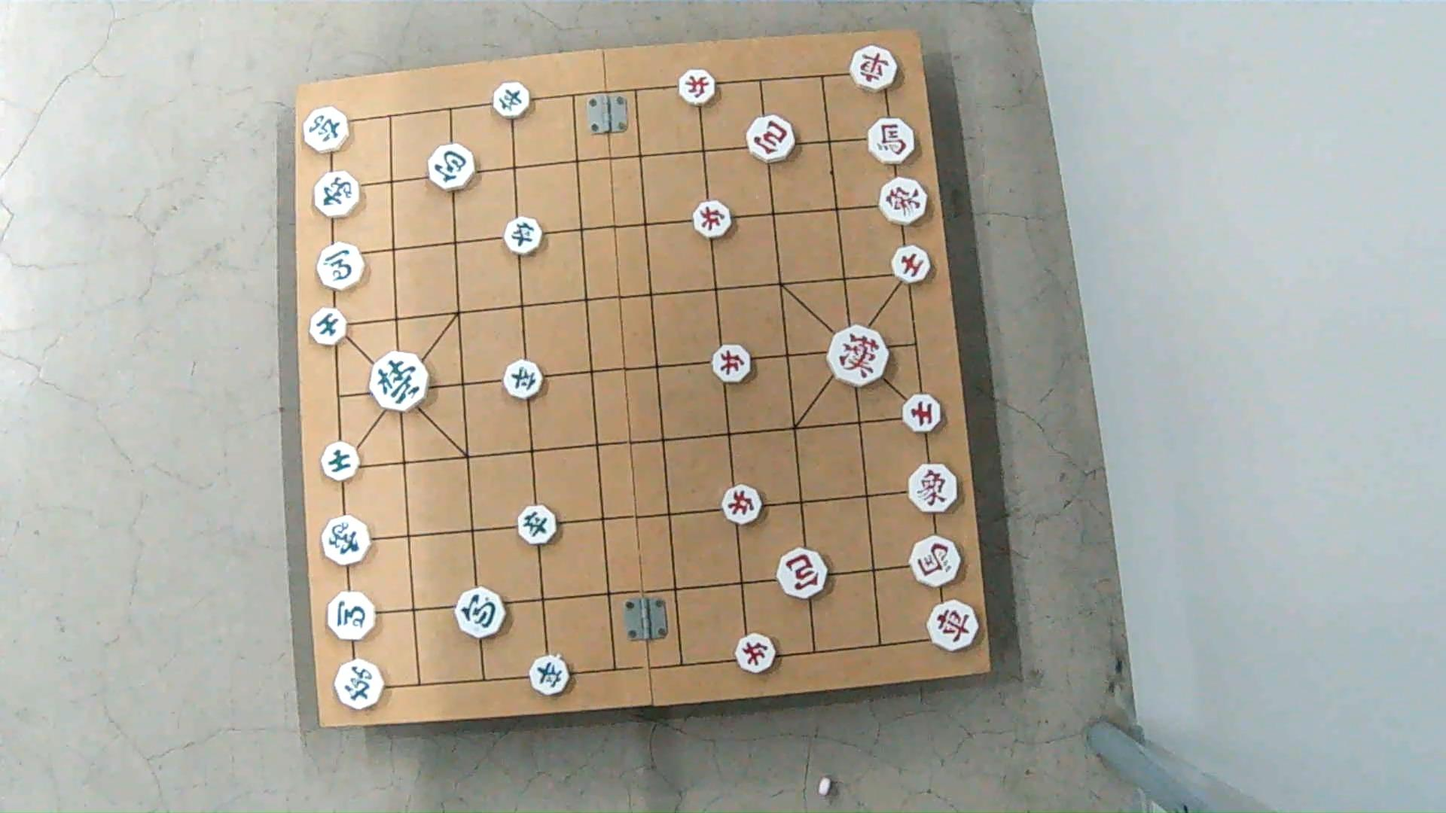cha_green: (331, 662, 386, 708), (302, 110, 352, 153)
cha_red: (926, 603, 981, 650), (850, 46, 901, 87)
jol_green: (528, 658, 574, 696), (514, 510, 557, 545), (505, 362, 547, 397), (503, 219, 545, 253), (492, 84, 532, 117)
jol_red: (721, 484, 765, 526), (712, 343, 755, 382), (679, 65, 720, 105), (735, 635, 778, 671), (691, 203, 734, 236)
ma_green: (316, 242, 368, 289), (328, 595, 380, 641)
ma_red: (909, 536, 963, 587), (866, 117, 918, 160)
po_green: (455, 585, 507, 638), (428, 145, 477, 190)
po_red: (775, 553, 828, 598), (748, 113, 797, 160)
sa_green: (321, 440, 361, 481), (310, 309, 350, 344)
sa_red: (903, 392, 944, 431), (891, 244, 931, 281)
sang_green: (322, 516, 374, 570), (313, 174, 362, 218)
sang_red: (906, 466, 962, 511), (877, 178, 929, 222)
wang_green: (370, 353, 431, 409)
wang_red: (828, 328, 892, 382)
